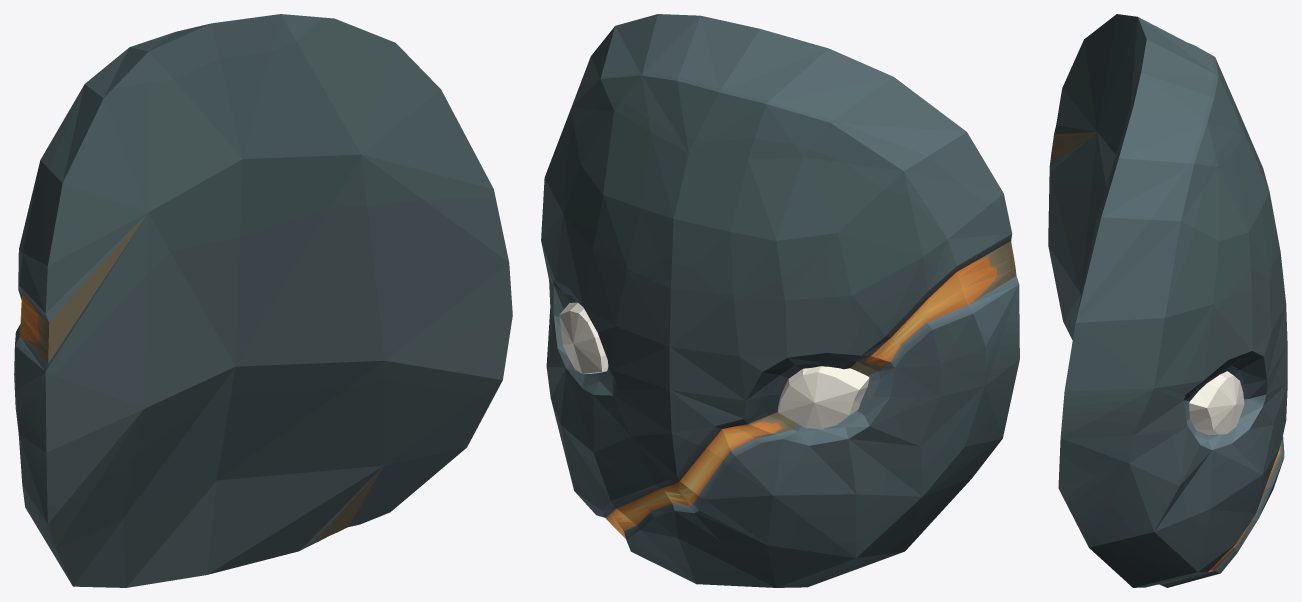
The model's file is CharSkyKid_Mask_AP29RepairedB.glb.
3 views of the same model, side by side, from view 1: azimuth 30°, elevation 25°; view 2: azimuth 150°, elevation 25°; view 3: azimuth 270°, elevation 25° (orthographic). The views are drawn at different scales.
Parts seen in each view (by area): view 1: CharSkyKid_Mask_AP29RepairedB; view 2: CharSkyKid_Mask_AP29RepairedB; view 3: CharSkyKid_Mask_AP29RepairedB.
Boxes of the visible parts, bbox=[...] form: CharSkyKid_Mask_AP29RepairedB: bbox=[14, 14, 512, 587]; CharSkyKid_Mask_AP29RepairedB: bbox=[541, 14, 1019, 587]; CharSkyKid_Mask_AP29RepairedB: bbox=[1048, 14, 1287, 587].
Size of the model in its own units: 2.15 by 2.49 by 1.05.
1 material, 1 textured.
